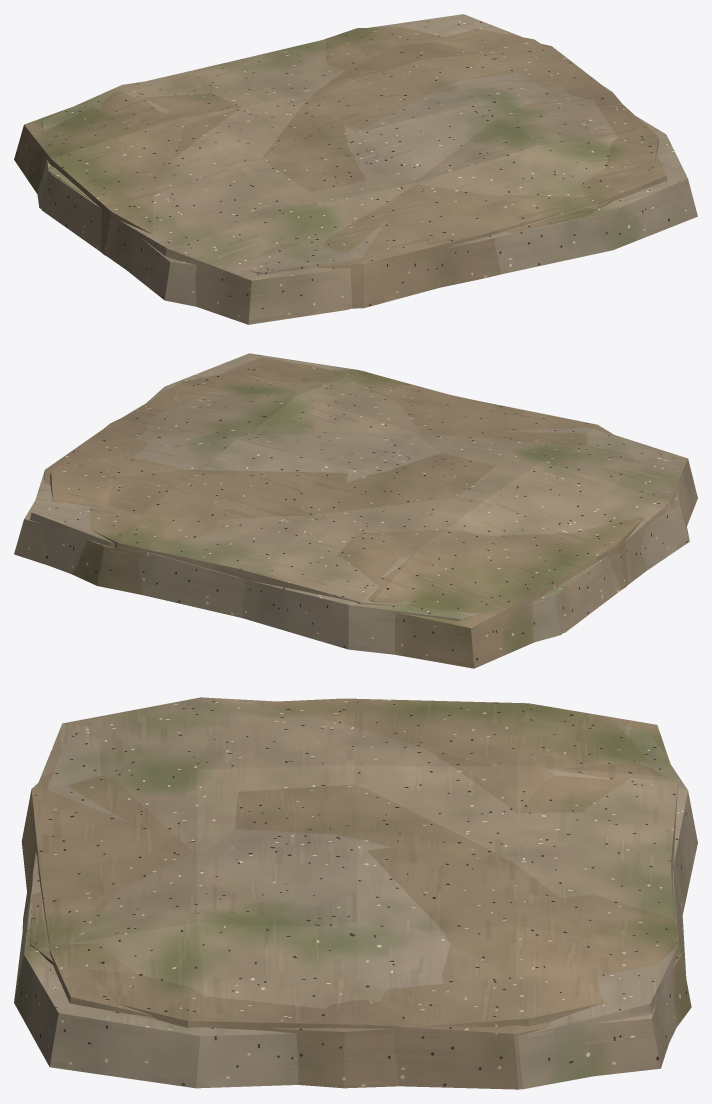
File: env_path_tiles.glb
The picture shows the model from 3 angles, top to bottom: view 1: azimuth 30°, elevation 25°; view 2: azimuth 150°, elevation 25°; view 3: azimuth 270°, elevation 25°; orthographic projection. The views are drawn at different scales.
Parts seen in each view (by area): view 1: tile_a, tile_b, tile_c, tile_d; view 2: tile_a, tile_b, tile_c, tile_d; view 3: tile_a, tile_b, tile_c, tile_d.
Part boxes in pixels (bbox=[...]): tile_a: bbox=[42, 39, 661, 324]; tile_b: bbox=[14, 27, 667, 308]; tile_c: bbox=[37, 14, 697, 306]; tile_d: bbox=[99, 42, 658, 287]; tile_a: bbox=[14, 369, 697, 632]; tile_b: bbox=[50, 357, 645, 668]; tile_c: bbox=[30, 353, 689, 654]; tile_d: bbox=[44, 370, 495, 602]; tile_a: bbox=[14, 697, 678, 1076]; tile_b: bbox=[21, 698, 680, 1088]; tile_c: bbox=[14, 724, 697, 1089]; tile_d: bbox=[22, 750, 691, 1089].
Size of the model in its own units: 0.9714 by 0.1018 by 0.8228.
Materials: 1 (1 with a texture image).
